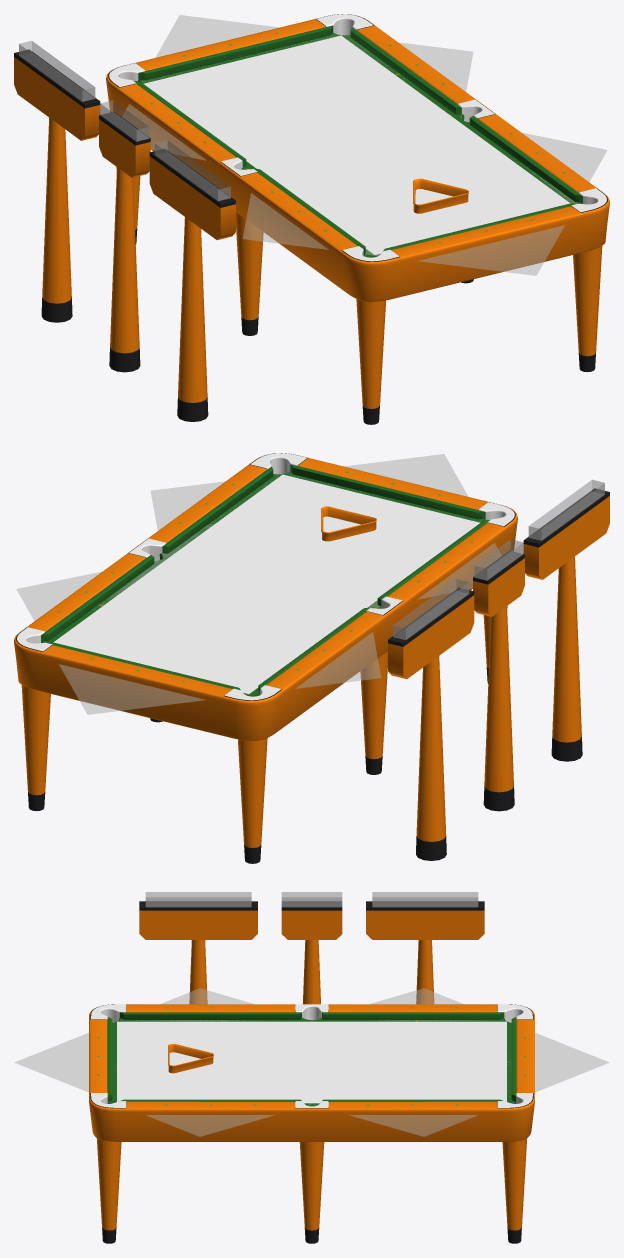
The model's file is table.fbx.
3 views of the same model, one above another, from view 1: azimuth 30°, elevation 25°; view 2: azimuth 150°, elevation 25°; view 3: azimuth 270°, elevation 25° (orthographic). The views are drawn at different scales.
Visible parts, largest first — view 1: tableZone, border, bedTrimesh, breakZone, holder2, holder1, legs, holder, rubber, bed, holder1Trimesh, holder2Trimesh (+4 smaller); view 2: tableZone, border, bedTrimesh, breakZone, holder1, holder2, legs, holder, rubber, bed, holder1Trimesh, holder2Trimesh (+4 smaller); view 3: tableZone, border, bedTrimesh, breakZone, legs, holder2, holder1, rubber, holder, holder1Trimesh, holder2Trimesh, bed (+4 smaller).
Boxes of the visible parts, x1,y1,x2,y2 form: tableZone: (144, 36, 570, 254); border: (106, 14, 609, 301); bedTrimesh: (122, 15, 607, 275); breakZone: (143, 35, 396, 124); holder2: (149, 149, 235, 421); holder1: (14, 49, 100, 322); legs: (116, 167, 602, 424); holder: (99, 112, 150, 372); rubber: (134, 25, 582, 255); bed: (138, 32, 582, 257); holder1Trimesh: (19, 40, 95, 101); holder2Trimesh: (154, 140, 230, 201); tableZone: (55, 474, 480, 692); border: (14, 453, 517, 740); bedTrimesh: (16, 454, 501, 714); breakZone: (53, 604, 303, 693); holder1: (388, 588, 474, 860); holder2: (523, 488, 609, 761); legs: (21, 606, 507, 863); holder: (473, 551, 524, 811); rubber: (41, 464, 489, 694); bed: (41, 471, 485, 696); holder1Trimesh: (393, 579, 469, 640); holder2Trimesh: (528, 479, 604, 540); tableZone: (117, 1021, 506, 1103); border: (89, 1004, 534, 1141); bedTrimesh: (14, 988, 609, 1136); breakZone: (413, 1021, 506, 1101); legs: (96, 1138, 527, 1243); holder2: (139, 901, 257, 1004); holder1: (366, 901, 484, 1004); rubber: (107, 1012, 516, 1101); holder: (281, 901, 342, 1004); holder1Trimesh: (372, 892, 478, 907); holder2Trimesh: (145, 892, 251, 907); bed: (107, 1017, 516, 1106).
Size of the model in its own units: 2.76 by 1.54 by 3.98.
